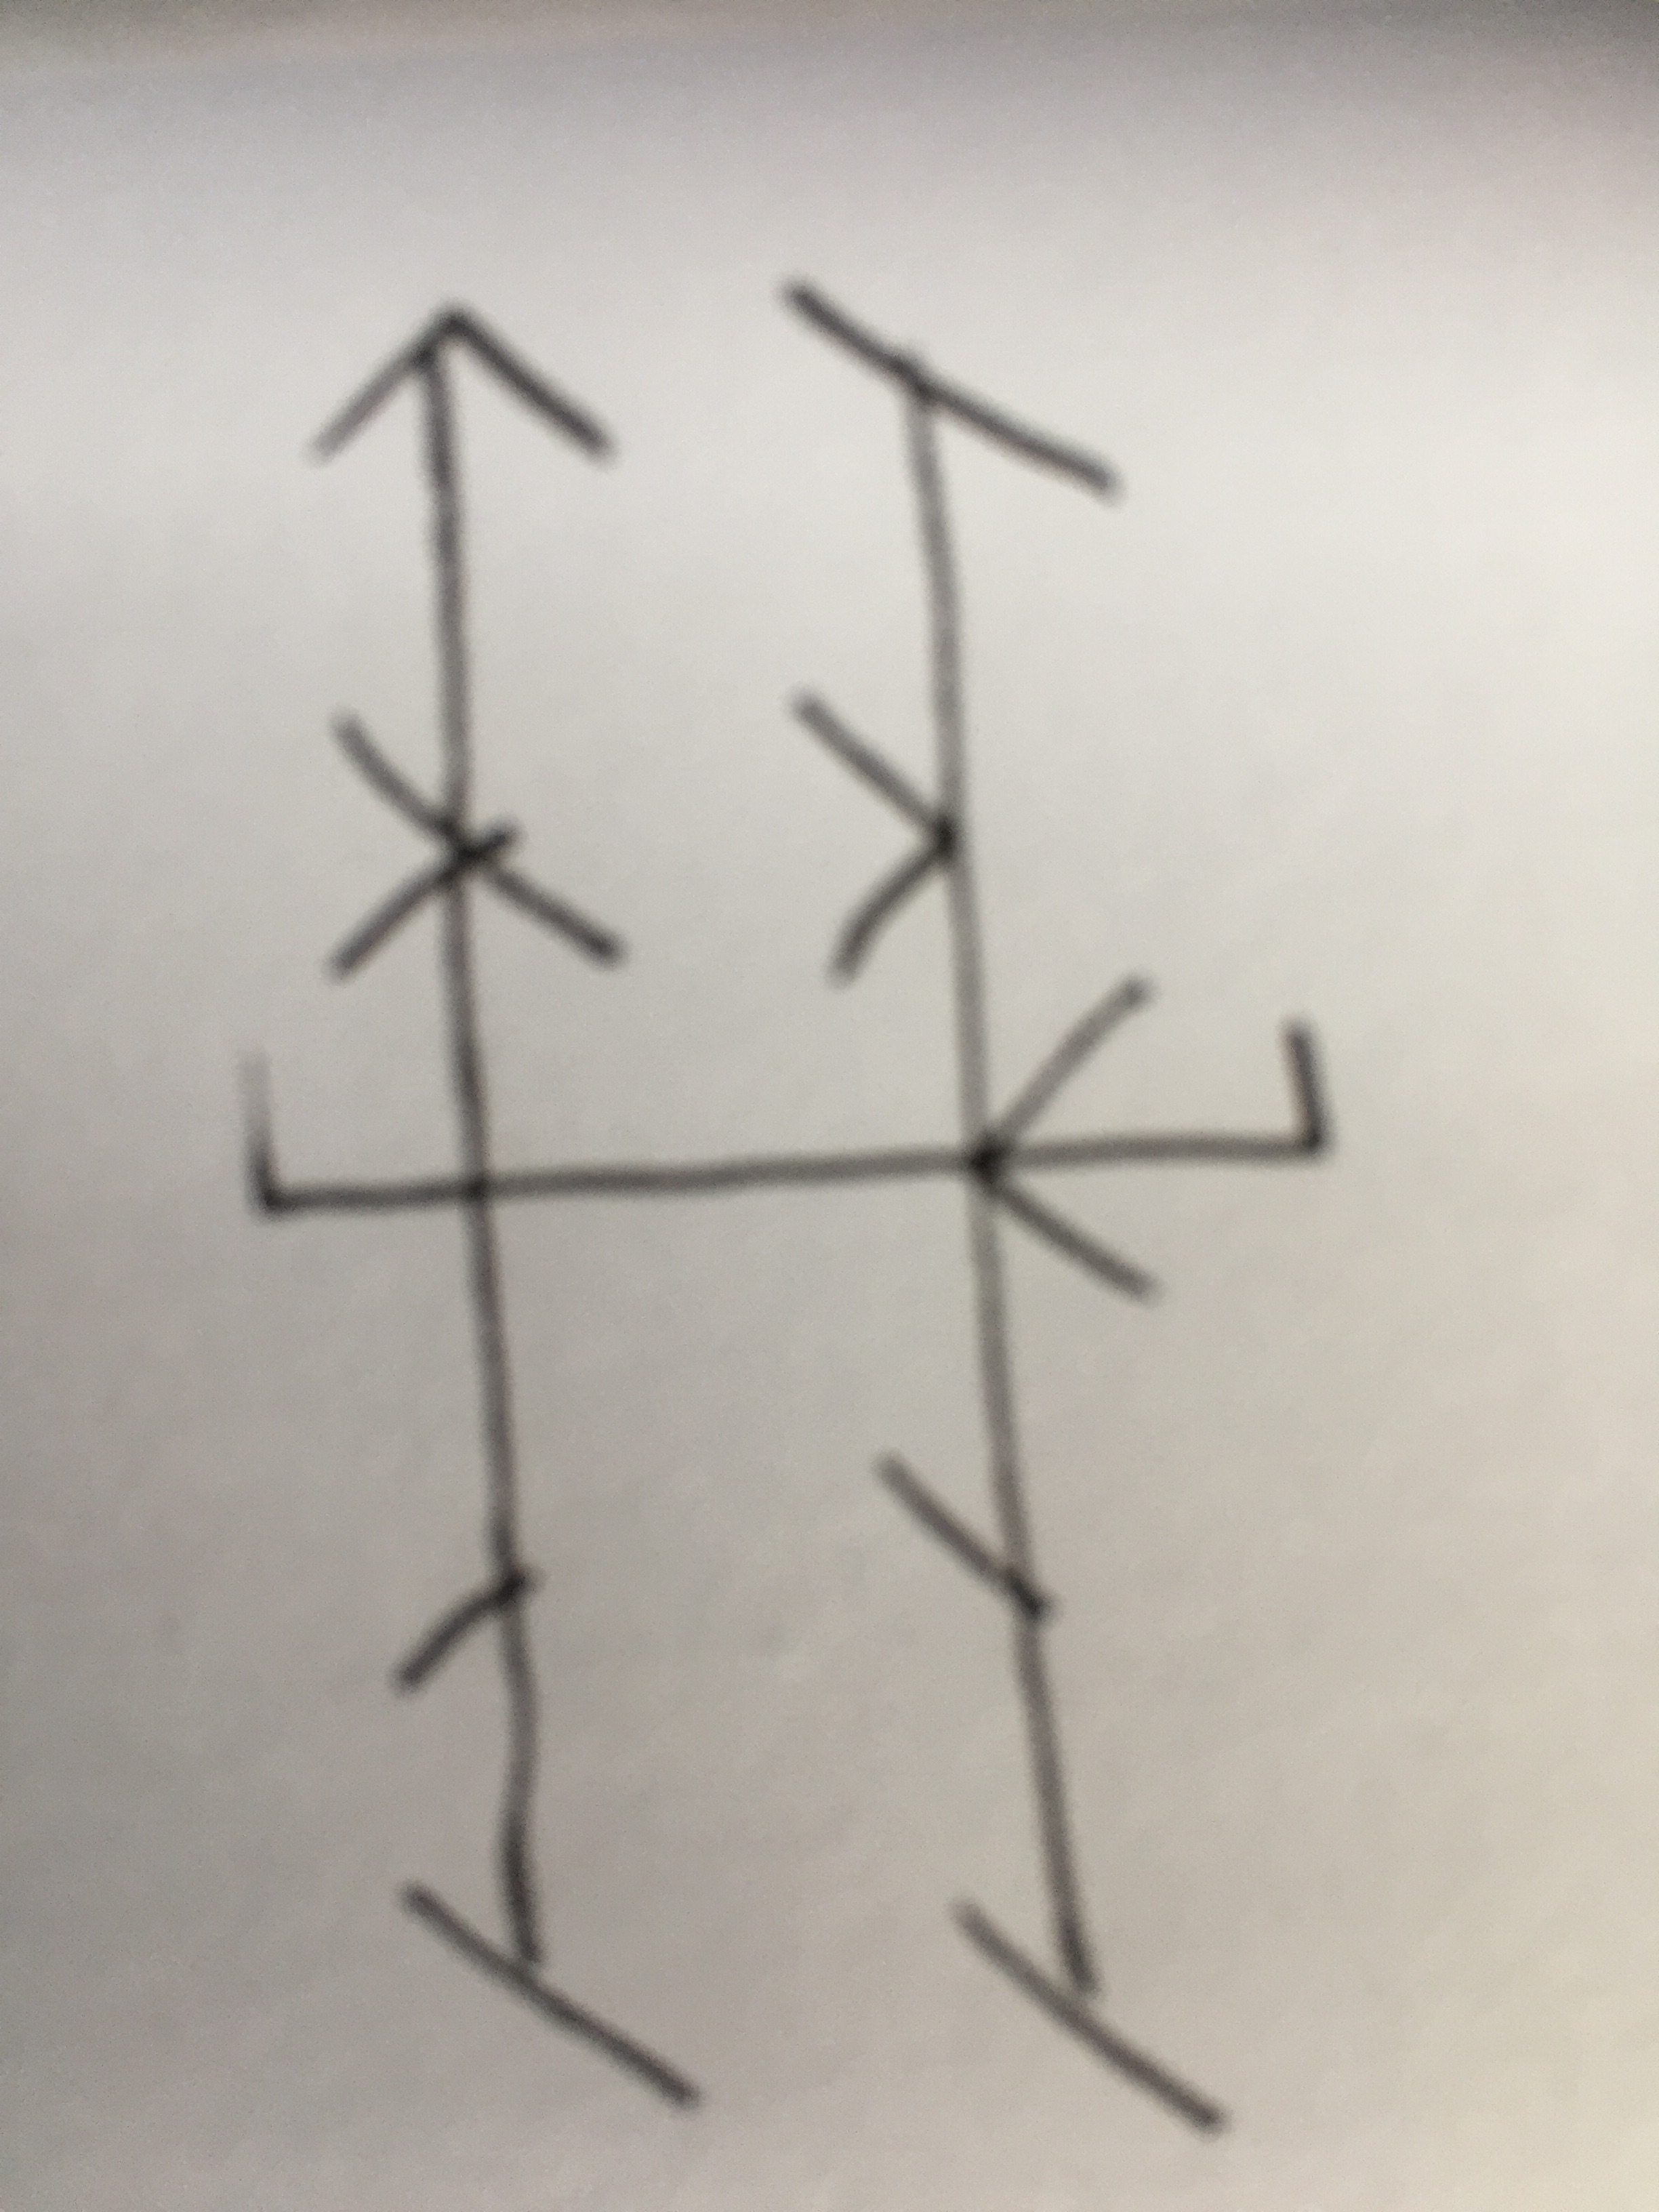Bar: (772, 277, 1232, 2137), (301, 300, 708, 2123)
Barcode: (234, 275, 1337, 2141)
End: (1127, 1017, 1335, 1170)
Start: (235, 1050, 444, 1228)
